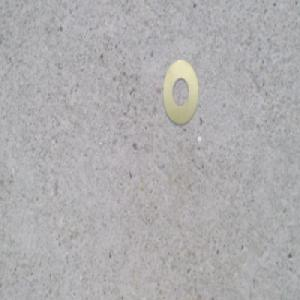Washer: (163, 57, 201, 126)
